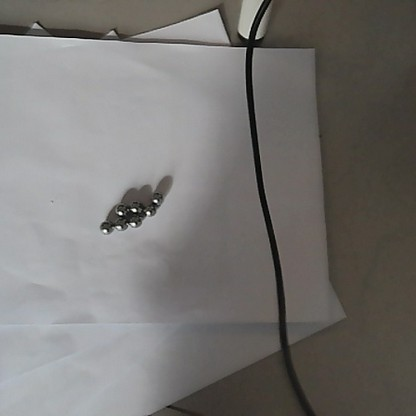ironball: (95, 218, 114, 237), (113, 200, 130, 217), (149, 190, 167, 206), (125, 212, 141, 230), (127, 196, 142, 214), (112, 216, 128, 231), (142, 202, 155, 216)
